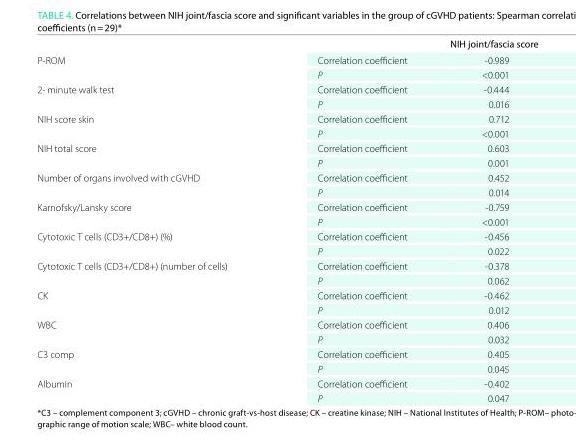table: (36, 37, 537, 403)
table column: (36, 37, 271, 403), (271, 37, 428, 403), (428, 37, 537, 403)
table column header: (36, 37, 537, 51)
table row: (36, 51, 537, 66), (36, 66, 537, 81), (36, 81, 537, 96), (36, 110, 537, 125), (36, 125, 537, 140), (36, 140, 537, 155), (36, 169, 537, 184), (36, 184, 537, 199), (36, 213, 537, 228), (36, 228, 537, 243), (36, 257, 537, 272), (36, 272, 537, 287), (36, 287, 537, 302), (36, 316, 537, 331), (36, 331, 537, 346), (36, 360, 537, 375), (36, 375, 537, 390), (36, 37, 537, 51), (36, 96, 537, 110), (36, 155, 537, 169), (36, 199, 537, 213), (36, 243, 537, 257), (36, 302, 537, 316), (36, 346, 537, 360), (36, 390, 537, 403)
table spanning cell: (36, 51, 271, 81), (36, 110, 271, 140), (36, 169, 271, 199), (36, 257, 271, 287), (36, 316, 271, 346), (36, 81, 271, 110), (36, 140, 271, 169), (36, 199, 271, 228), (36, 228, 271, 257), (36, 287, 271, 316), (36, 346, 271, 375), (36, 375, 271, 403)
